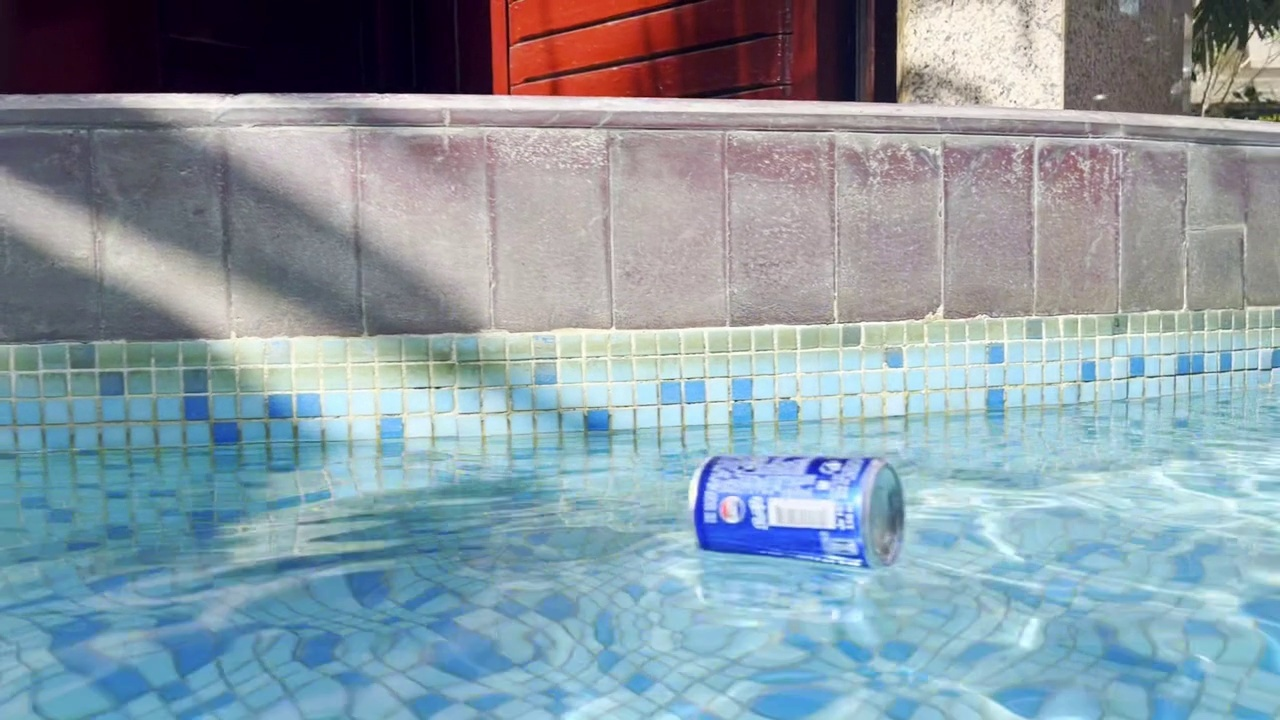debris: (683, 440, 913, 579)
